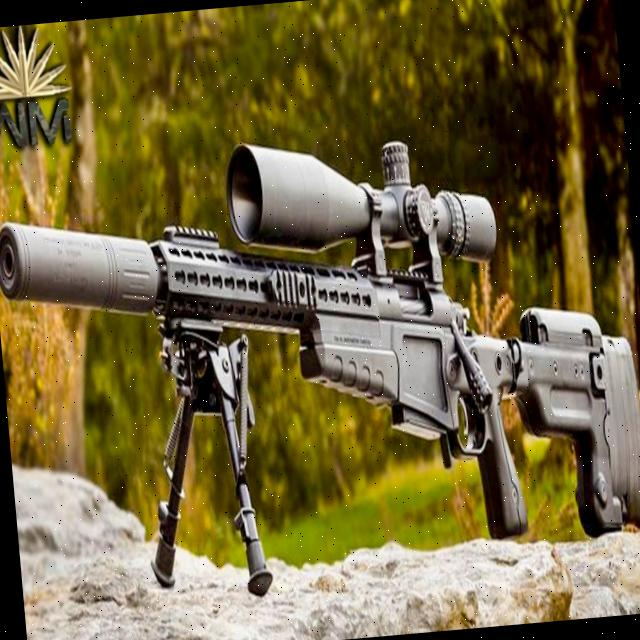firearm: (0, 102, 640, 619)
